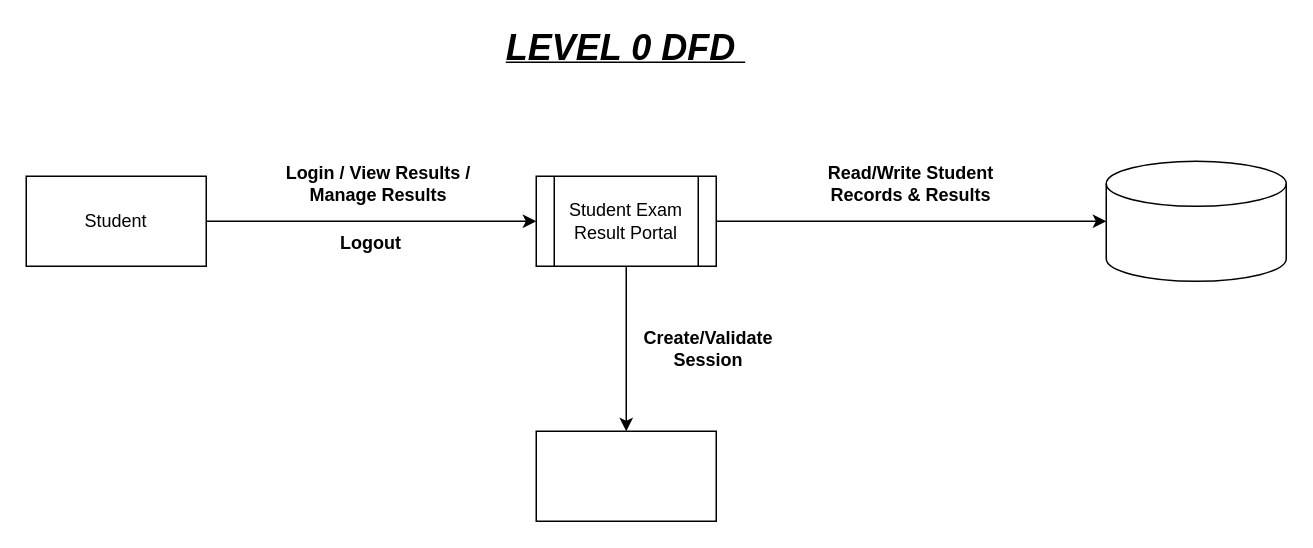
This 1313x548 diagram has some shape labels left out. Here are the shapes that lost their labels. From the top down, the box of each, then its label:
(1105, 160, 1286, 281): MySQL Database
(535, 430, 716, 521): PHP Session Store
